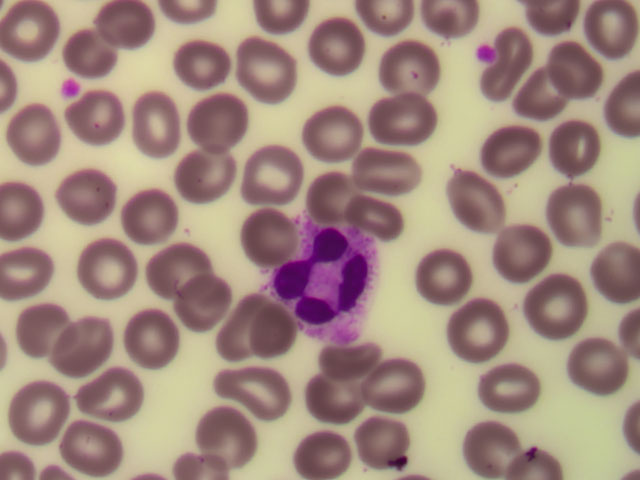Platelets: (470, 43, 500, 64), (60, 77, 85, 96)
RBC: (59, 17, 120, 78), (164, 31, 225, 92), (122, 93, 183, 154), (69, 92, 130, 153), (7, 103, 68, 164), (58, 167, 119, 228), (70, 238, 131, 299), (18, 293, 79, 354), (4, 248, 65, 309), (50, 316, 111, 377), (121, 308, 182, 369), (141, 225, 202, 286), (164, 263, 225, 324), (122, 182, 183, 243), (170, 146, 231, 207), (191, 98, 252, 159), (224, 39, 285, 100), (311, 16, 372, 77), (377, 26, 438, 87), (374, 80, 435, 141), (305, 102, 366, 163), (291, 161, 352, 222), (348, 186, 409, 247), (365, 140, 426, 201), (245, 135, 306, 196), (240, 204, 301, 265), (203, 295, 264, 356), (236, 303, 297, 364), (230, 355, 291, 416), (206, 403, 267, 464), (85, 366, 146, 427), (69, 403, 130, 464), (10, 385, 71, 446), (281, 419, 342, 480), (306, 367, 367, 428), (327, 318, 388, 379), (362, 353, 423, 414), (358, 403, 419, 464), (457, 409, 518, 470), (507, 419, 568, 480), (485, 350, 546, 411), (446, 301, 507, 362), (413, 249, 474, 310), (441, 176, 502, 237), (489, 218, 550, 279), (521, 269, 582, 330), (557, 334, 618, 395), (579, 238, 640, 299), (544, 184, 605, 245), (537, 122, 598, 183), (462, 130, 523, 191), (511, 65, 572, 126), (545, 35, 606, 96), (569, 9, 630, 70), (494, 29, 555, 90), (88, 1, 149, 61), (257, 1, 318, 61), (1, 1, 61, 61), (609, 76, 640, 141)
WBC: (273, 214, 385, 350)
